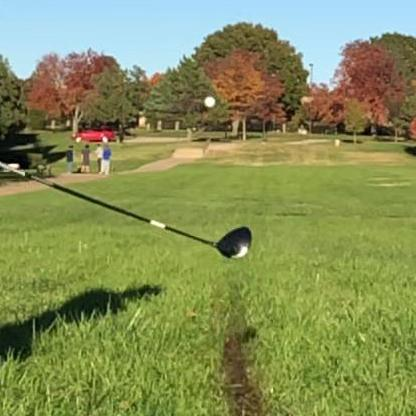golfball: (201, 93, 215, 107)
